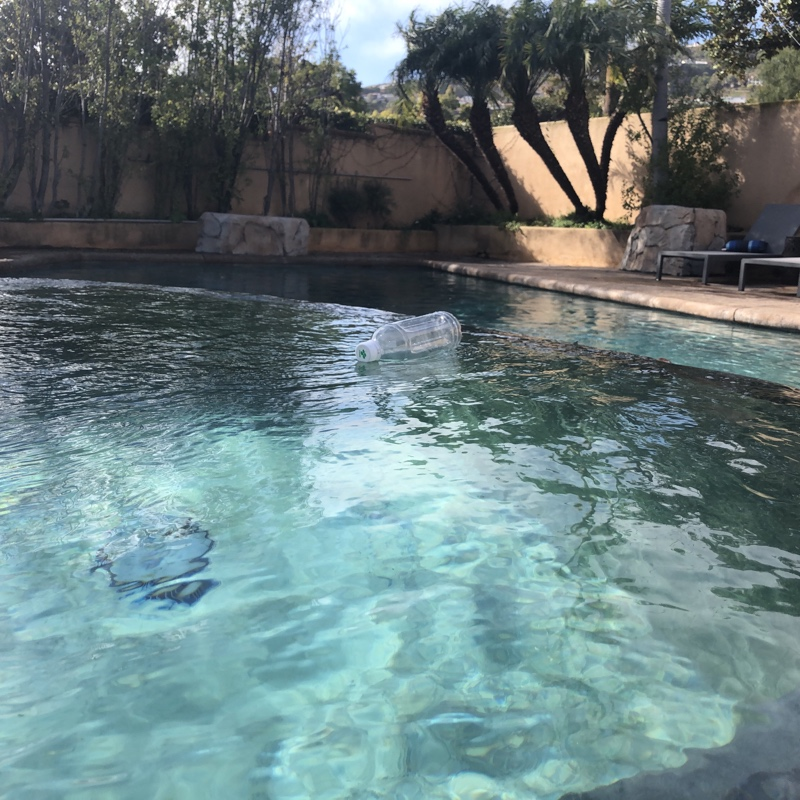Plastic Bottle: (352, 308, 466, 368)
